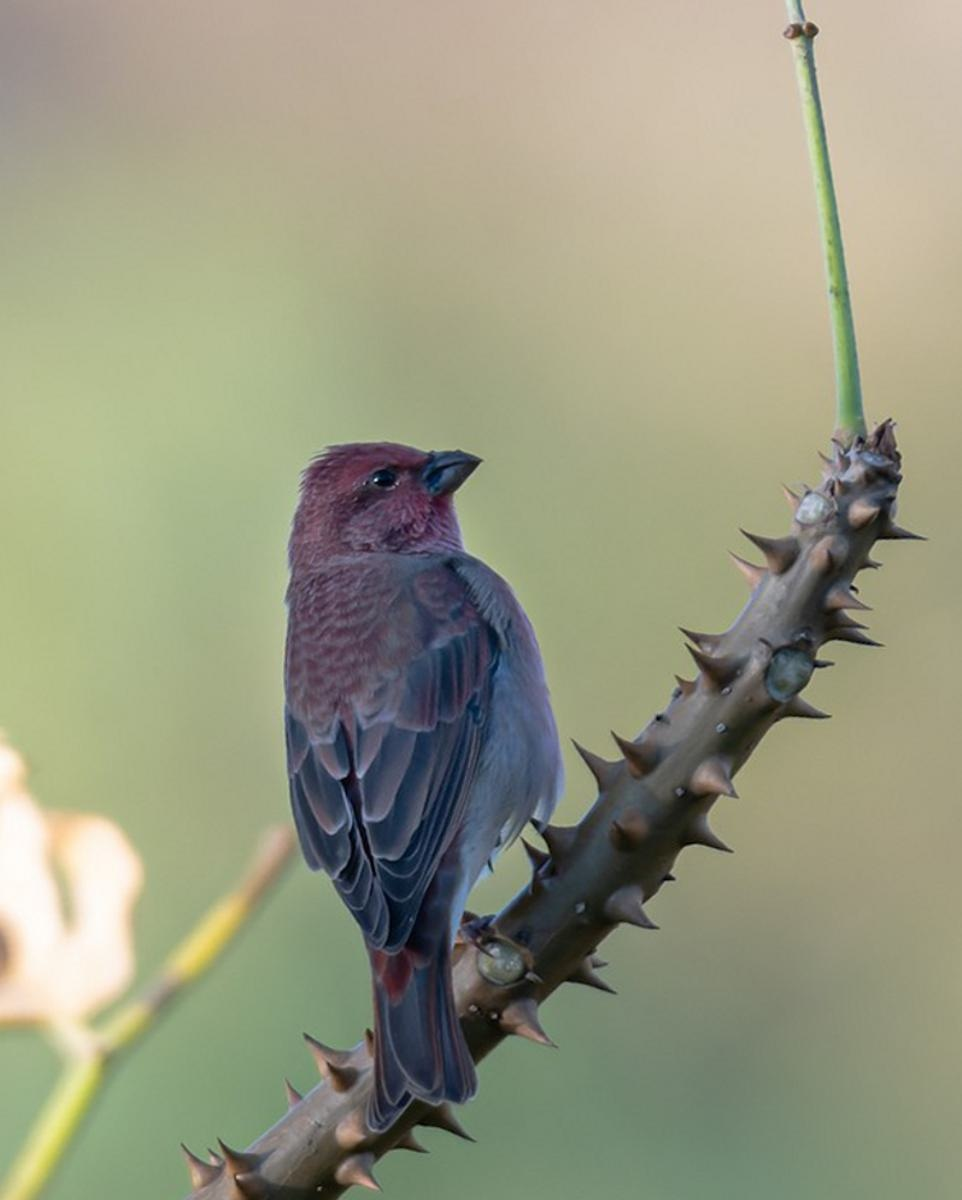rosefinch: (255, 422, 545, 1080)
